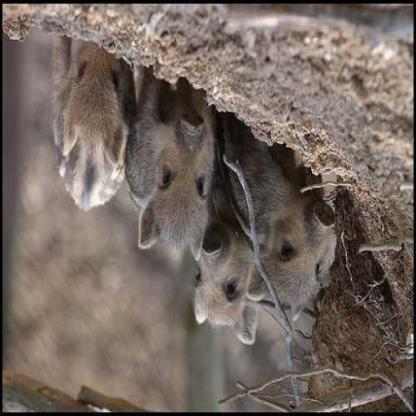boar: (110, 69, 275, 262), (50, 67, 152, 264), (248, 179, 382, 324), (196, 207, 289, 374)
